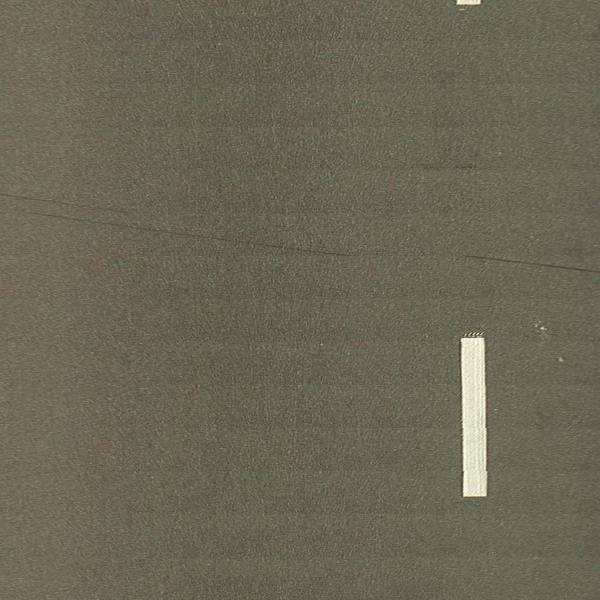road_damage: (14, 195, 402, 261)
